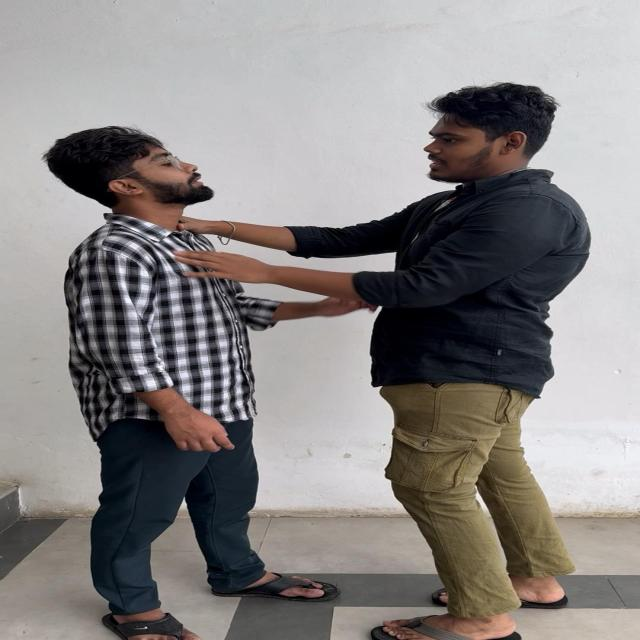fight: (47, 82, 563, 640)
